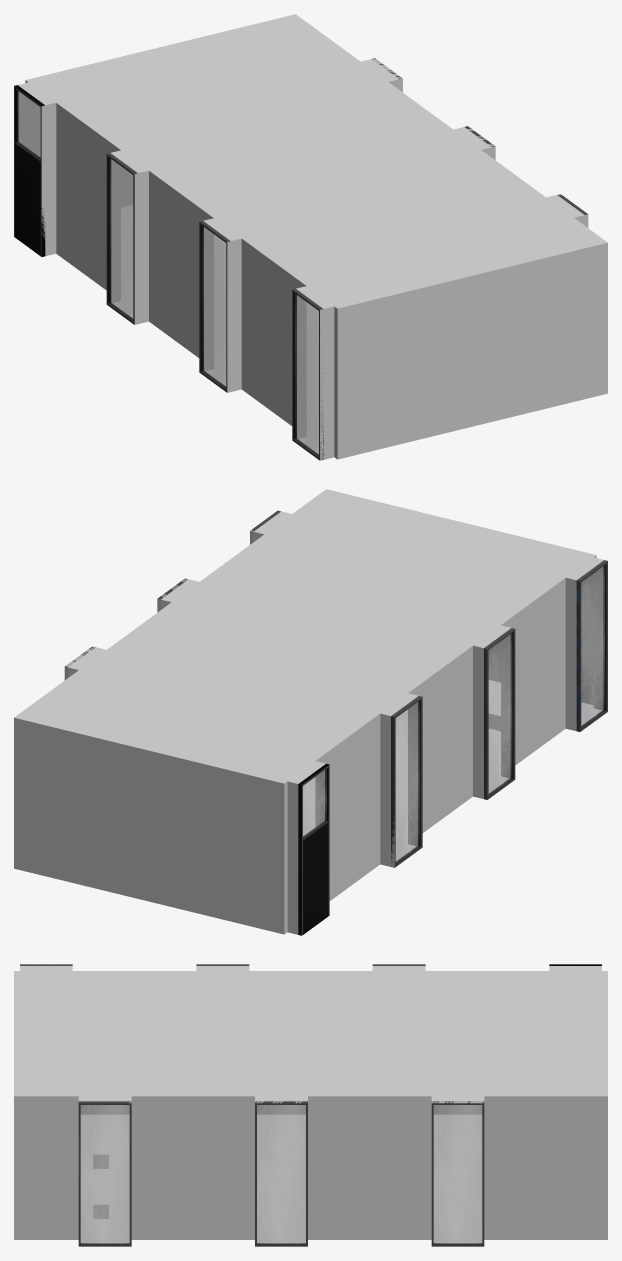
Rendered from halftone.gltf.
The picture shows the model from 3 angles, top to bottom: view 1: azimuth 30°, elevation 25°; view 2: azimuth 150°, elevation 25°; view 3: azimuth 270°, elevation 25°; orthographic projection. The views are drawn at different scales.
Parts seen in each view (by area): view 1: floor, walls, paintiing, glass, details; view 2: floor, walls, glass, details; view 3: floor, walls, glass, details.
Part boxes in pixels (left/top/right/bottom): floor: left=25, top=14, right=607, bottom=445; walls: left=18, top=59, right=607, bottom=460; paintiing: left=382, top=300, right=562, bottom=418; glass: left=17, top=90, right=318, bottom=455; details: left=14, top=58, right=587, bottom=460; floor: left=14, top=489, right=596, bottom=852; walls: left=14, top=511, right=603, bottom=934; glass: left=303, top=565, right=604, bottom=862; details: left=64, top=510, right=607, bottom=935; floor: left=14, top=971, right=607, bottom=1239; walls: left=14, top=966, right=607, bottom=1243; glass: left=80, top=1105, right=481, bottom=1243; details: left=20, top=964, right=601, bottom=1246.
Bounding box in the file's own units: 5.97 × 2.88 × 10.79.
